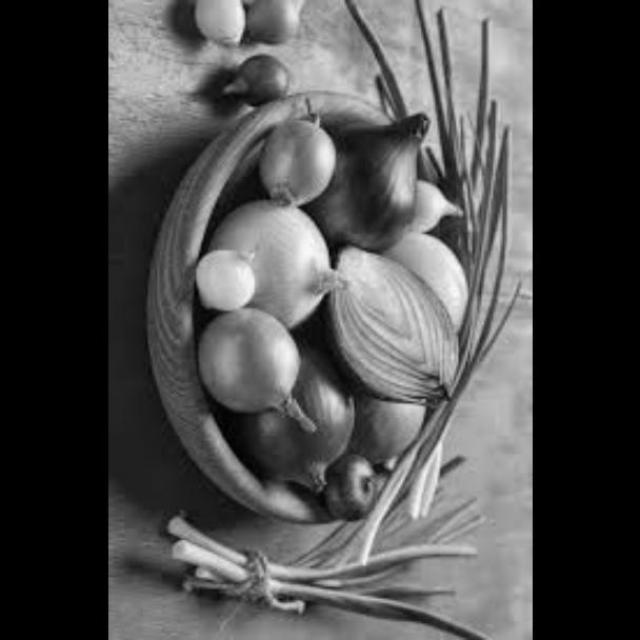cu hanh: (324, 234, 461, 411), (245, 332, 362, 494), (325, 92, 437, 254), (215, 202, 352, 322), (198, 306, 318, 435), (393, 218, 483, 320), (343, 376, 434, 476), (258, 112, 338, 214), (177, 223, 269, 310), (388, 174, 468, 241), (323, 447, 376, 528), (221, 55, 295, 107), (185, 1, 259, 47), (247, 1, 310, 47)
